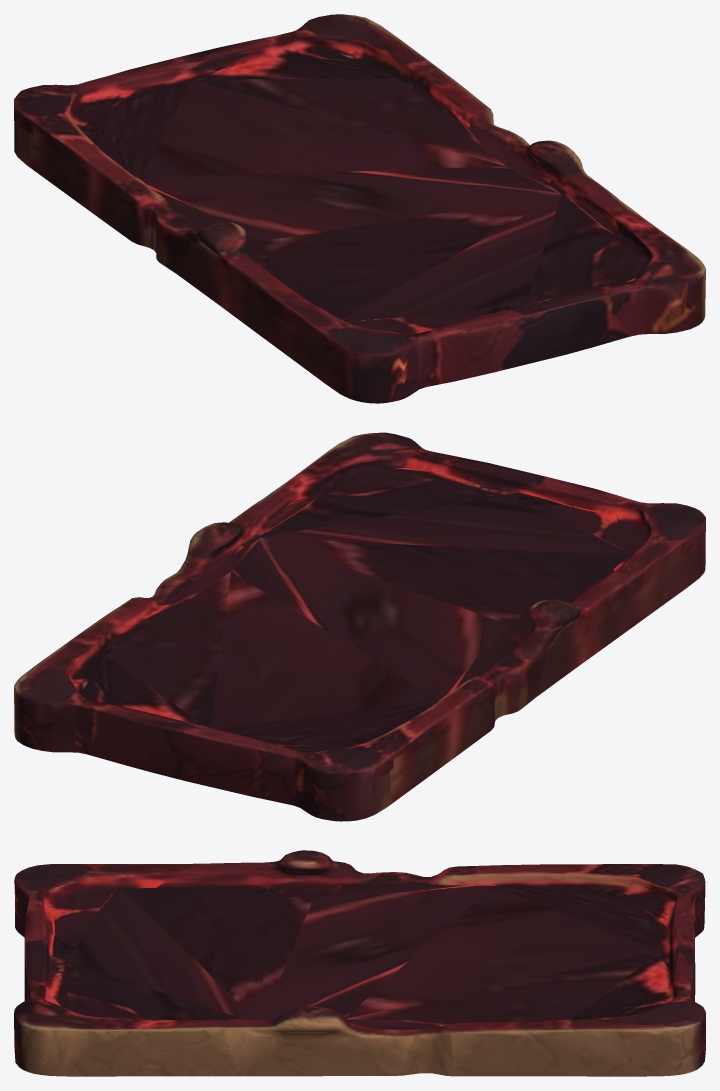
File: CF_Tile_Lava.fbx
The picture shows the model from 3 angles, top to bottom: view 1: azimuth 30°, elevation 25°; view 2: azimuth 150°, elevation 25°; view 3: azimuth 270°, elevation 25°; orthographic projection. The views are drawn at different scales.
Visible parts, largest first — view 1: CF_Tile_Lava; view 2: CF_Tile_Lava; view 3: CF_Tile_Lava.
Part boxes in pixels (left/top/right/bottom): CF_Tile_Lava: left=14, top=14, right=705, bottom=403; CF_Tile_Lava: left=14, top=432, right=705, bottom=821; CF_Tile_Lava: left=14, top=850, right=705, bottom=1076.
Size of the model in its own units: 5.9 by 1 by 10.
